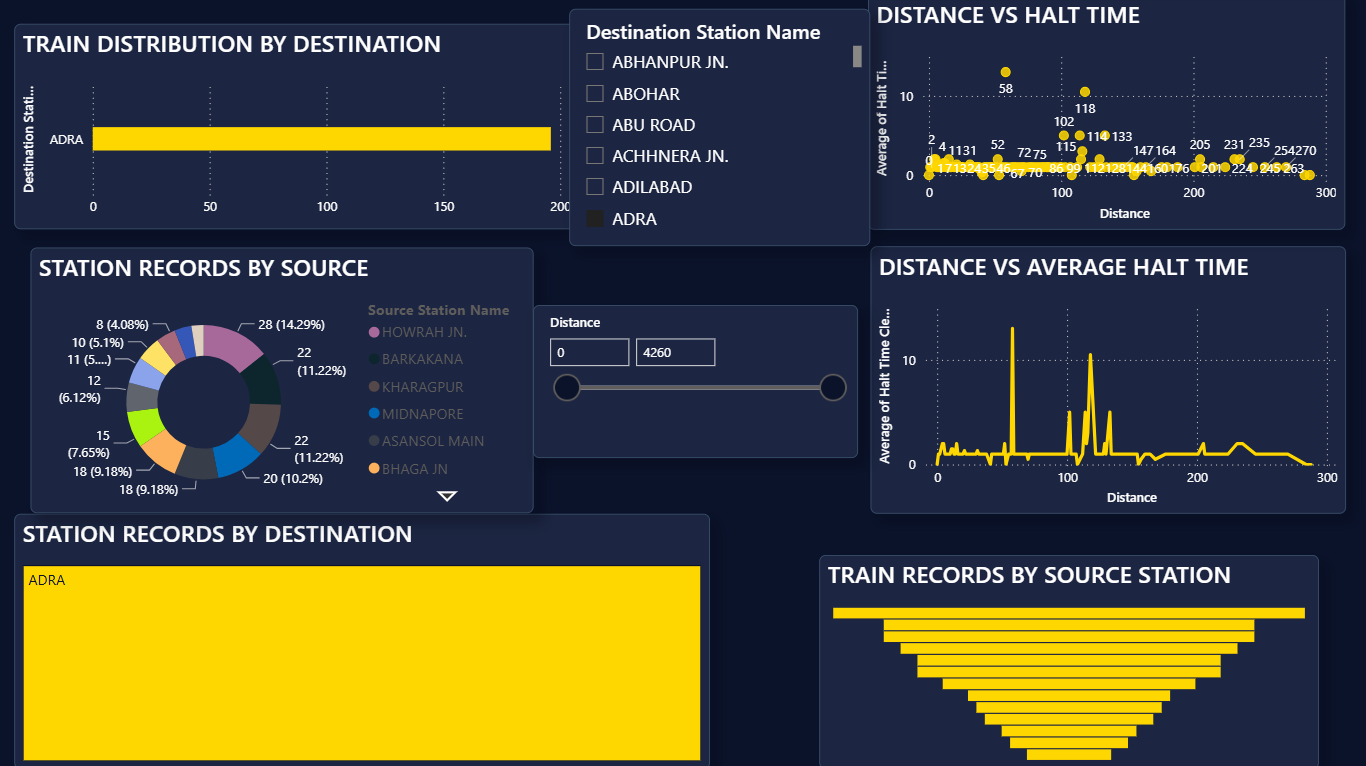

This screenshot's page, from the dashboard's own definition file:
{"tool":"powerbi","page":{"name":"Detailed Analysis","canvas":[1280,720],"ordinal":1},"visuals":[{"type":"treemap","title":"STATION RECORDS BY DESTINATION","fields":{"Group":["Indian_Railway_PowerBI_Data.Destination Station Name"],"Values":["CountNonNull(Indian_Railway_PowerBI_Data.Station Code)"]},"box":[19.8,482.1,646.9,238],"z":0},{"type":"donutChart","title":"STATION RECORDS BY SOURCE","fields":{"Category":["Indian_Railway_PowerBI_Data.Source Station Name"],"Y":["CountNonNull(Indian_Railway_PowerBI_Data.Station Code)"]},"box":[34.6,234.7,468.1,247.5],"z":1000},{"type":"lineChart","title":"DISTANCE VS AVERAGE HALT TIME","fields":{"Category":["Indian_Railway_PowerBI_Data.Distance"],"Y":["Avg(Indian_Railway_PowerBI_Data.Halt Time Cleaned)"]},"box":[815.7,233.4,442.5,248.8],"z":2000},{"type":"clusteredBarChart","title":"TRAIN DISTRIBUTION BY DESTINATION","fields":{"Category":["Indian_Railway_PowerBI_Data.Destination Station Name"],"Y":["CountNonNull(Indian_Railway_PowerBI_Data.Train No)"]},"box":[19.2,26.9,525.9,191.1],"z":3000},{"type":"funnel","title":"TRAIN RECORDS BY SOURCE STATION","fields":{"Category":["Indian_Railway_PowerBI_Data.Source Station Name"],"Y":["CountNonNull(Indian_Railway_PowerBI_Data.Train No)"]},"box":[768.4,520.5,464.8,199.5],"z":4000},{"type":"scatterChart","title":"DISTANCE VS HALT TIME","fields":{"X":["Indian_Railway_PowerBI_Data.Distance"],"Y":["Avg(Indian_Railway_PowerBI_Data.Halt Time Cleaned)"]},"box":[814.4,0,443.8,218],"z":5000},{"type":"slicer","fields":{"Values":["Indian_Railway_PowerBI_Data.Destination Station Name"]},"box":[536.1,12.8,280,221],"z":6000},{"type":"slicer","fields":{"Values":["Indian_Railway_PowerBI_Data.Distance"]},"box":[502.8,288.6,302.7,142.4],"z":7000}]}

Visuals, with their boxes in screenshot pixels (x1, y1, x2, y2), scaled from the page's 1280x720 canvas onto the 1366x766 screenshot:
"STATION RECORDS BY DESTINATION" treemap: region(21, 513, 711, 765)
"STATION RECORDS BY SOURCE" donutChart: region(37, 250, 536, 513)
"DISTANCE VS AVERAGE HALT TIME" lineChart: region(871, 248, 1343, 513)
"TRAIN DISTRIBUTION BY DESTINATION" clusteredBarChart: region(20, 29, 582, 232)
"TRAIN RECORDS BY SOURCE STATION" funnel: region(820, 554, 1316, 765)
"DISTANCE VS HALT TIME" scatterChart: region(869, 0, 1343, 232)
slicer - Indian_Railway_PowerBI_Data.Destination Station Name: region(572, 14, 871, 249)
slicer - Indian_Railway_PowerBI_Data.Distance: region(537, 307, 860, 459)
